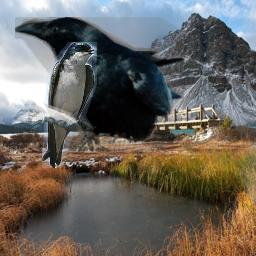Crow: (15, 17, 184, 152)
Swallow: (42, 42, 97, 168)
